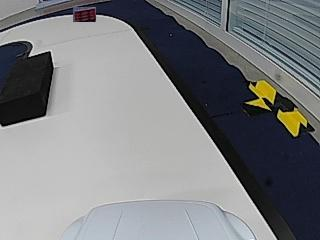block: (0, 50, 53, 127)
